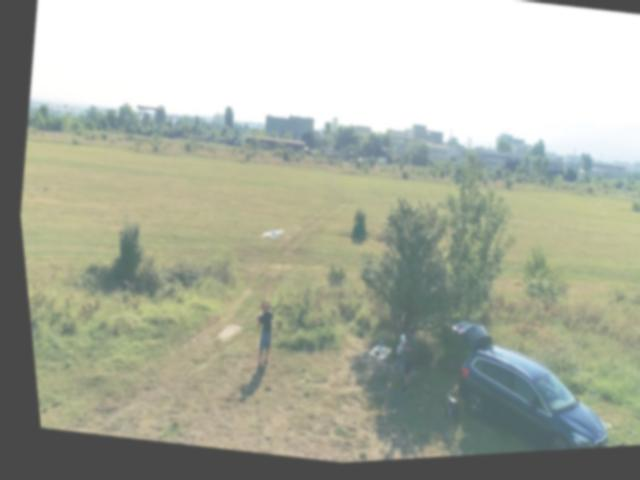plane: (255, 226, 281, 246)
